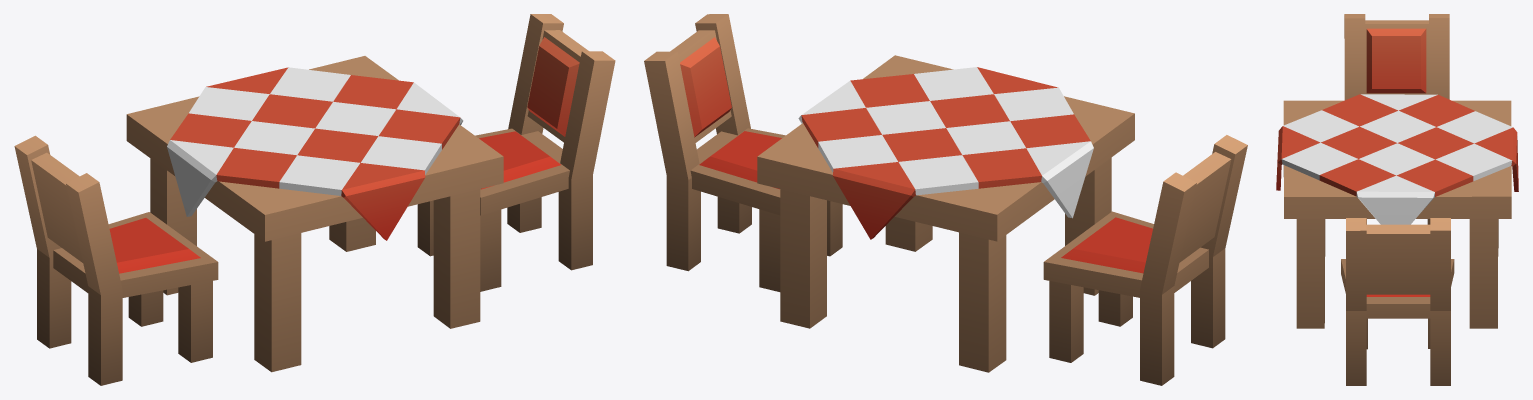
File: table 4.fbx
3 views of the same model, side by side, from view 1: azimuth 30°, elevation 25°; view 2: azimuth 150°, elevation 25°; view 3: azimuth 270°, elevation 25° (orthographic). The views are drawn at different scales.
Parts seen in each view (by area): view 1: table_4; view 2: table_4; view 3: table_4.
Part boxes in pixels (x1,y1,x2,y2): table_4: (14, 14, 615, 385); table_4: (644, 14, 1247, 385); table_4: (1276, 14, 1518, 385).
Size of the model in its own units: 251 by 91 by 119.
1 material, 1 textured.
